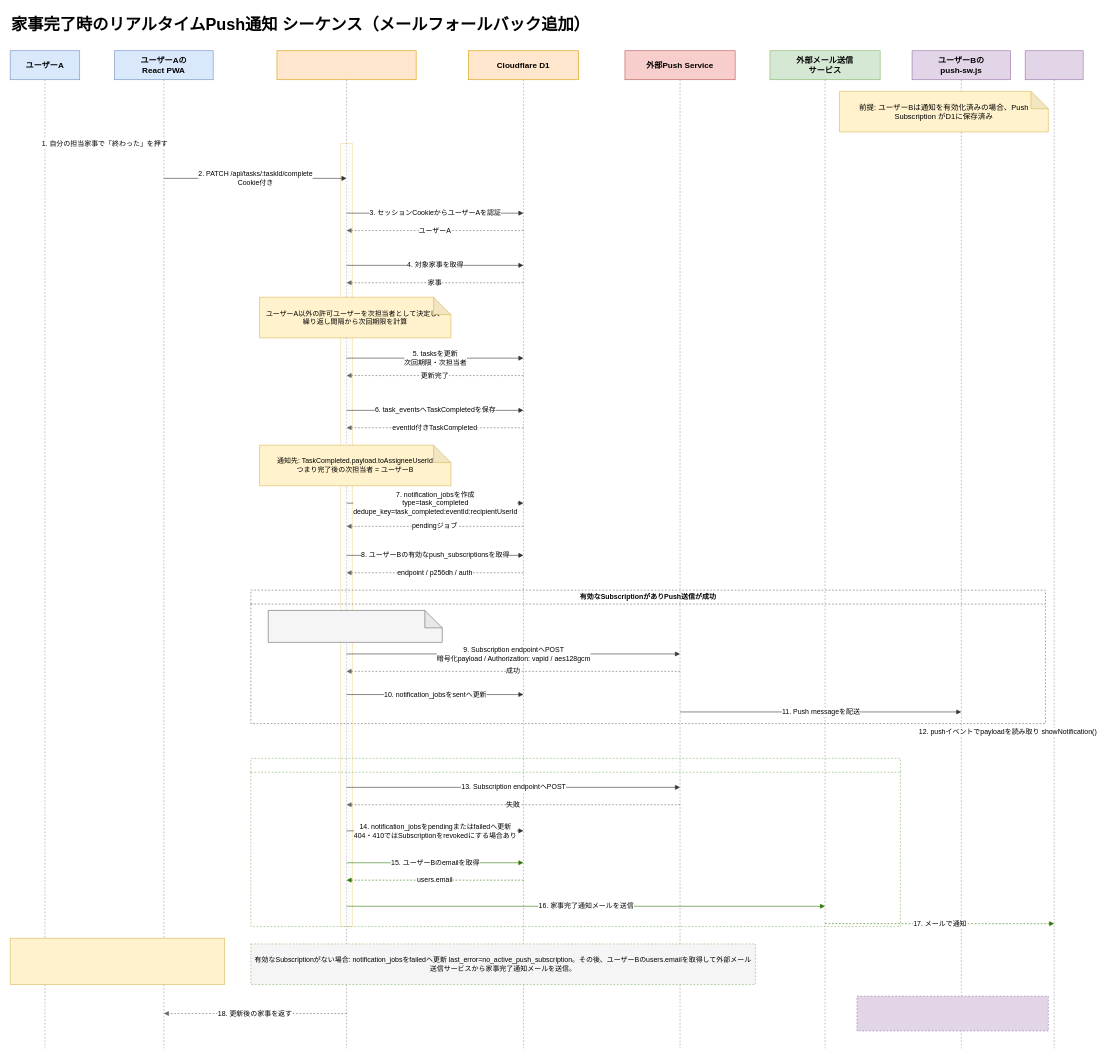
The diagram is 1107 pixels wide and 1059 high, and some of its shapes have lost their labels. The shapes that lost their labels are listed below. From the top down, each one's centre as x and y in pixels, then its label:
the point at 346,65: Cloudflare Worker kajibun API
the point at 1054,65: ユーザーB
the point at 355,626: 同じ家事完了APIリクエスト内でVAPID JWT生成とpayload暗号化を行う
the point at 575,842: 有効なSubscriptionがあるがPush送信が失敗
the point at 117,961: 補足: 再試行可能なPush失敗はpendingで残り、後続のCron実行で再送される。メール送信サービスの具体的な事業者名は固定しない。
the point at 952,1013: 任意: ユーザーBがPush通知をクリックすると、既存のkajibun画面をfocus。なければ / をopenWindow
